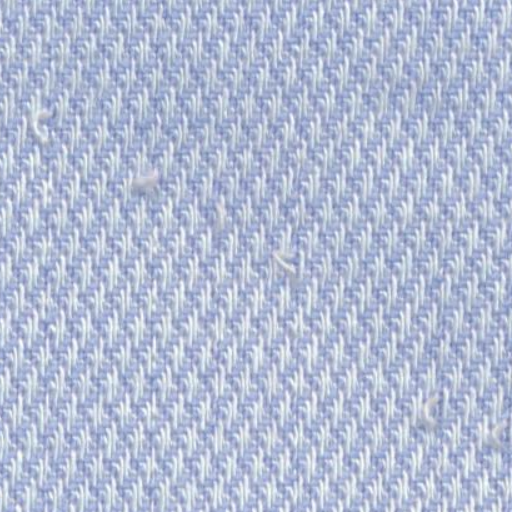DuanSha: (408, 374, 508, 462), (256, 224, 328, 306), (14, 83, 65, 159), (116, 146, 172, 214)
